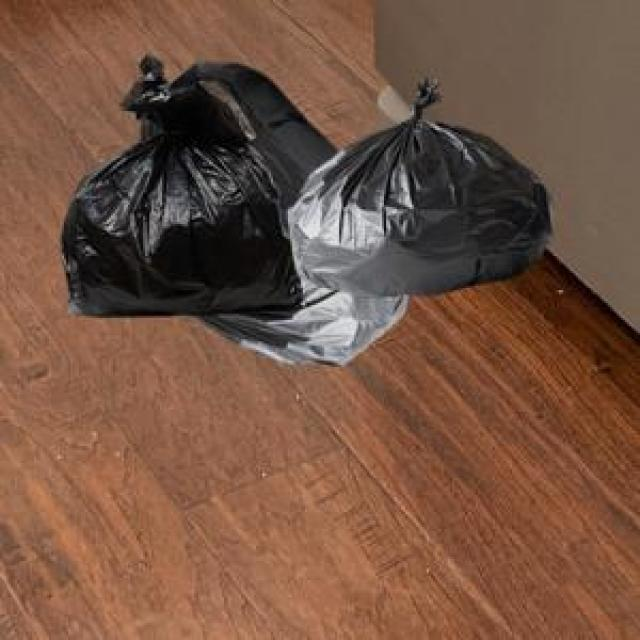Trashbag: (47, 63, 297, 324), (284, 70, 561, 304)
